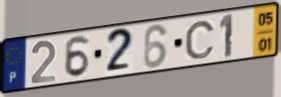1: (218, 12, 235, 61)
2: (104, 26, 137, 77), (29, 39, 59, 86)
6: (142, 22, 171, 70), (62, 34, 91, 79)
C: (183, 19, 217, 61)
